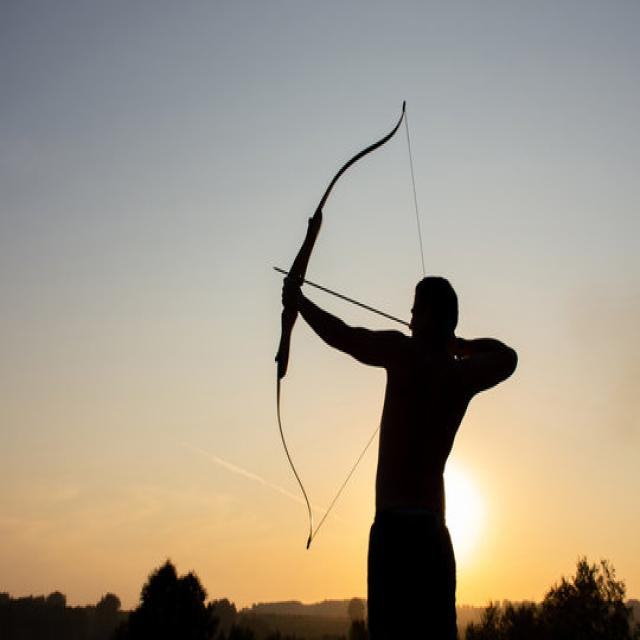X-Bow: (270, 91, 424, 552)
